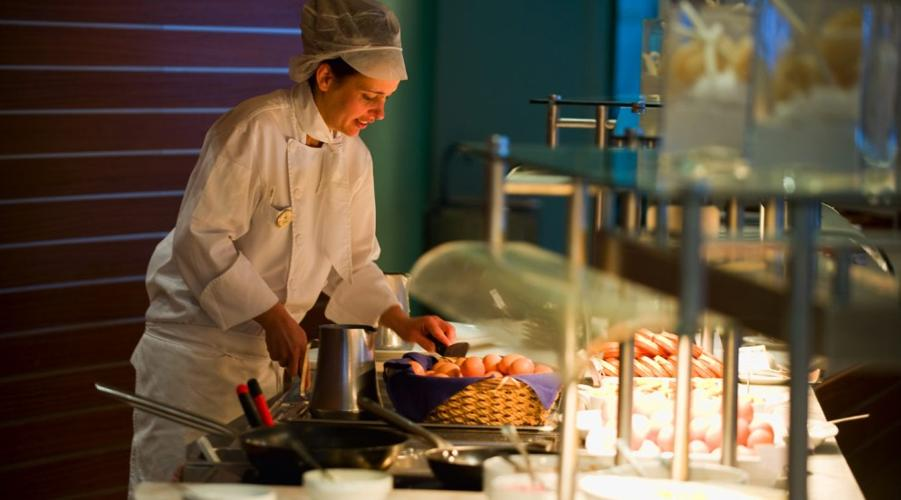person: (132, 1, 454, 500)
